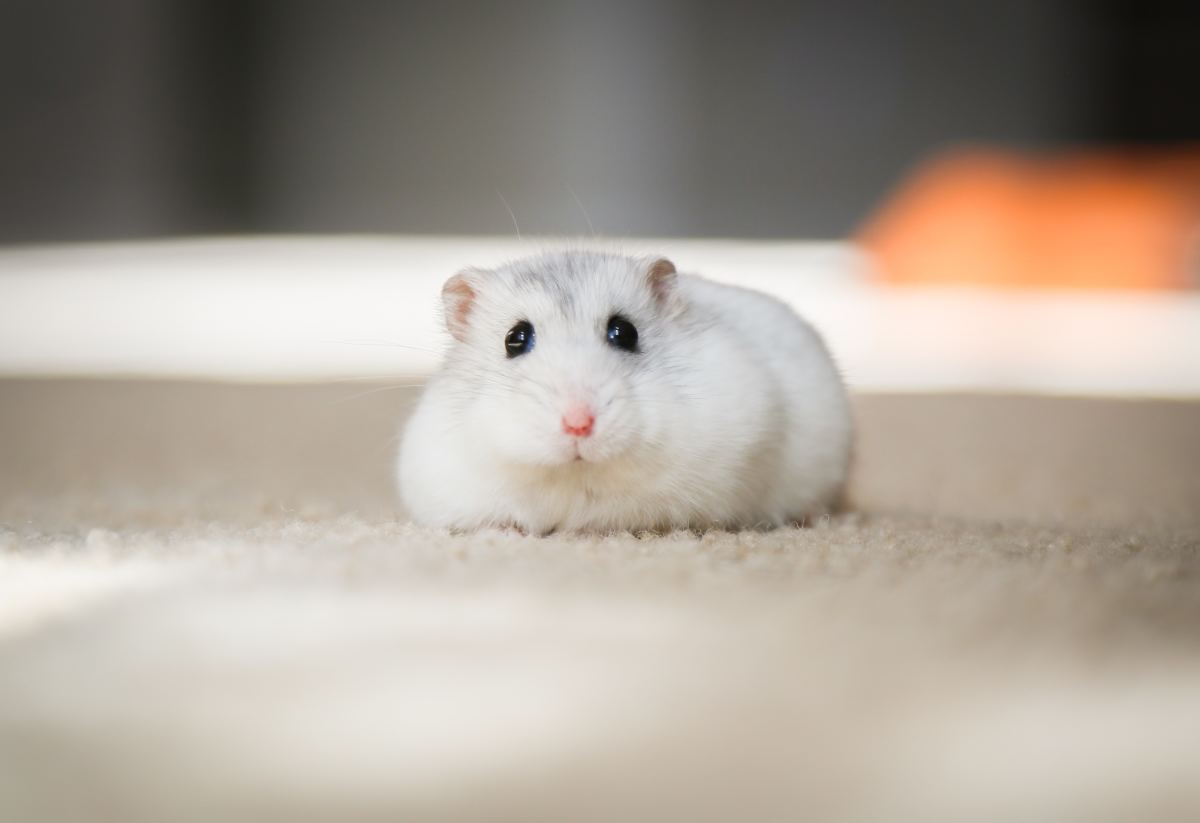hamester: (398, 241, 851, 528)
